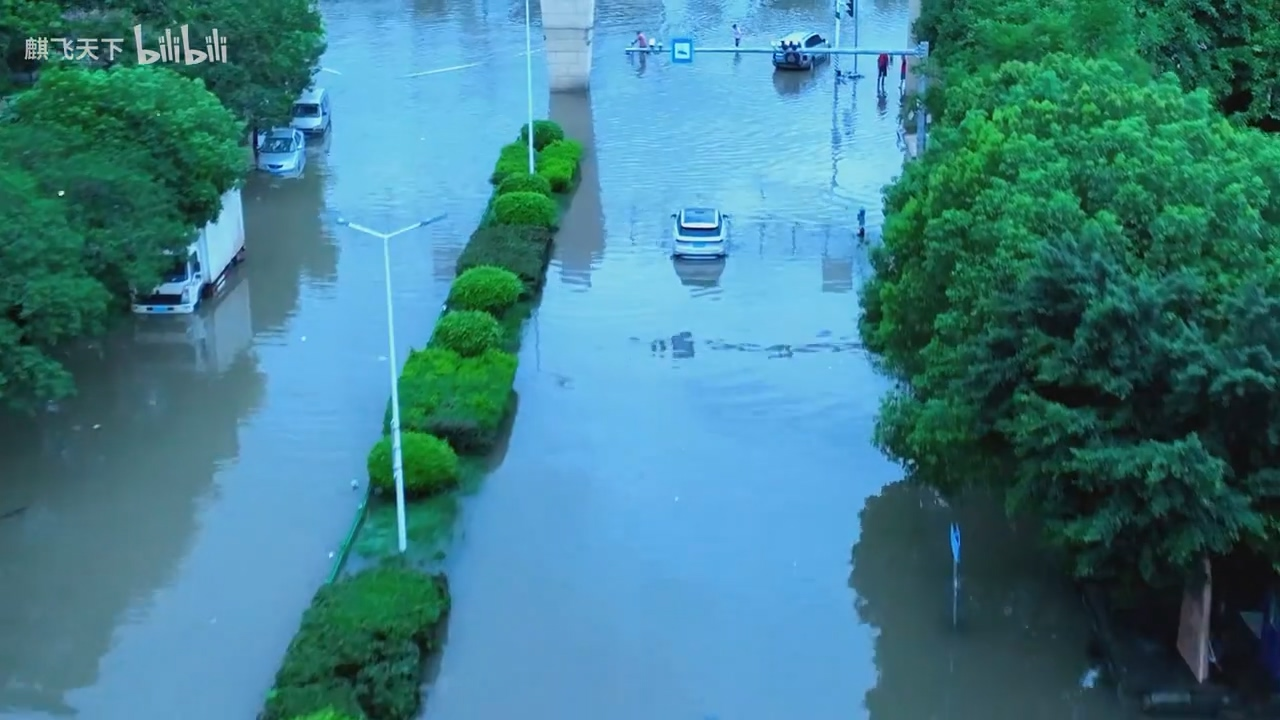puddle: (516, 168, 1002, 720), (67, 226, 352, 719)
